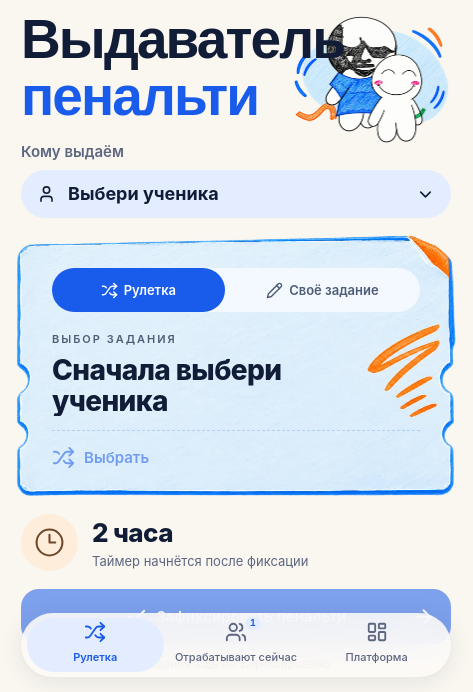
Test: text-only catalog tasks show the shared timer without made-up minute estimates
Select "@demo_peer" in the dropdown labelled "Кому выдаём": (236, 194) [66, 170, 406, 218]
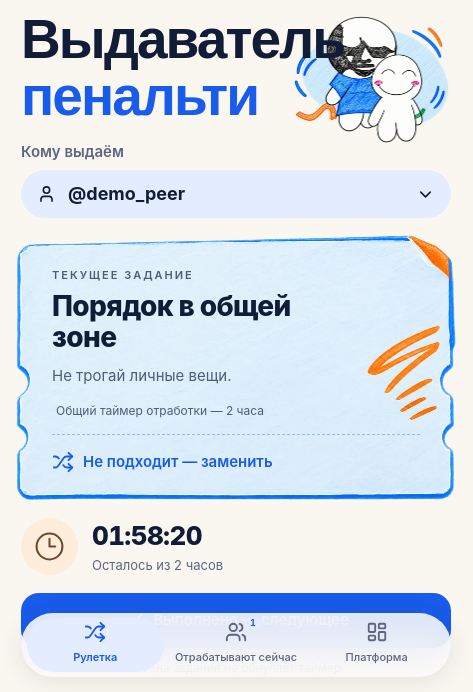
Check: the text "Общий таймер отработки — 2 часа" is shown, box [56, 403, 264, 418]
